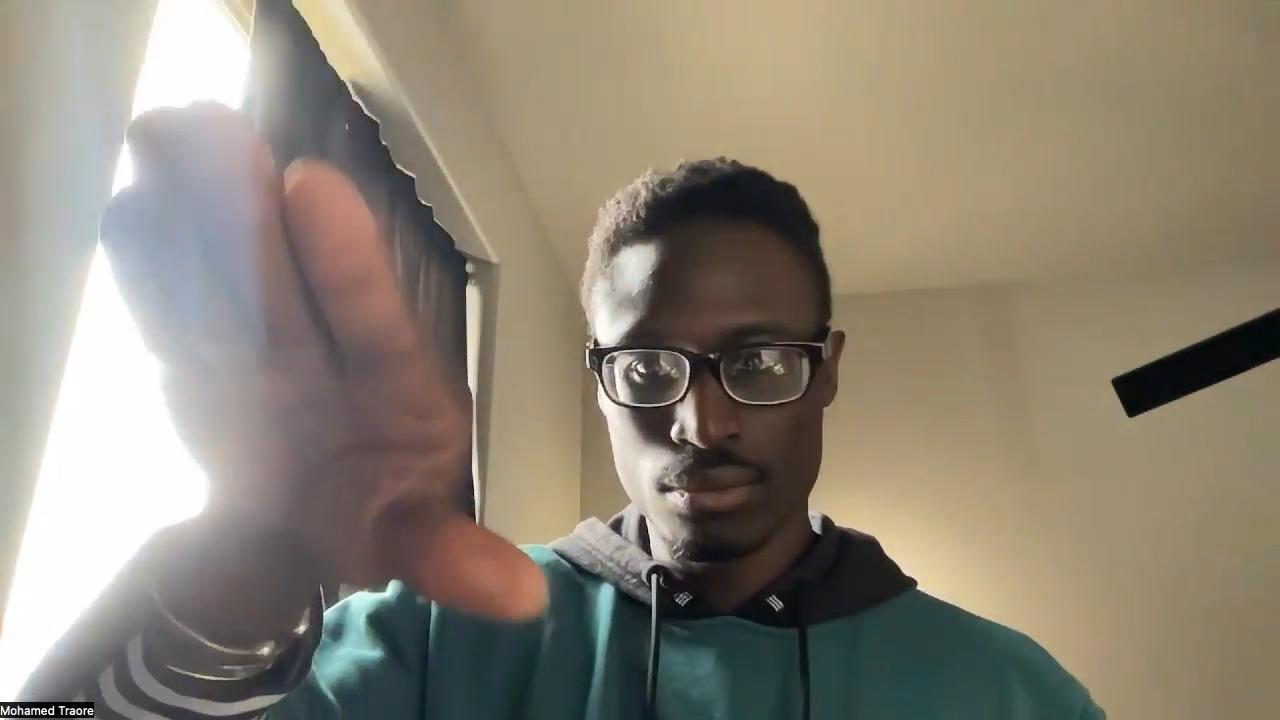Paper: (103, 98, 549, 625)
